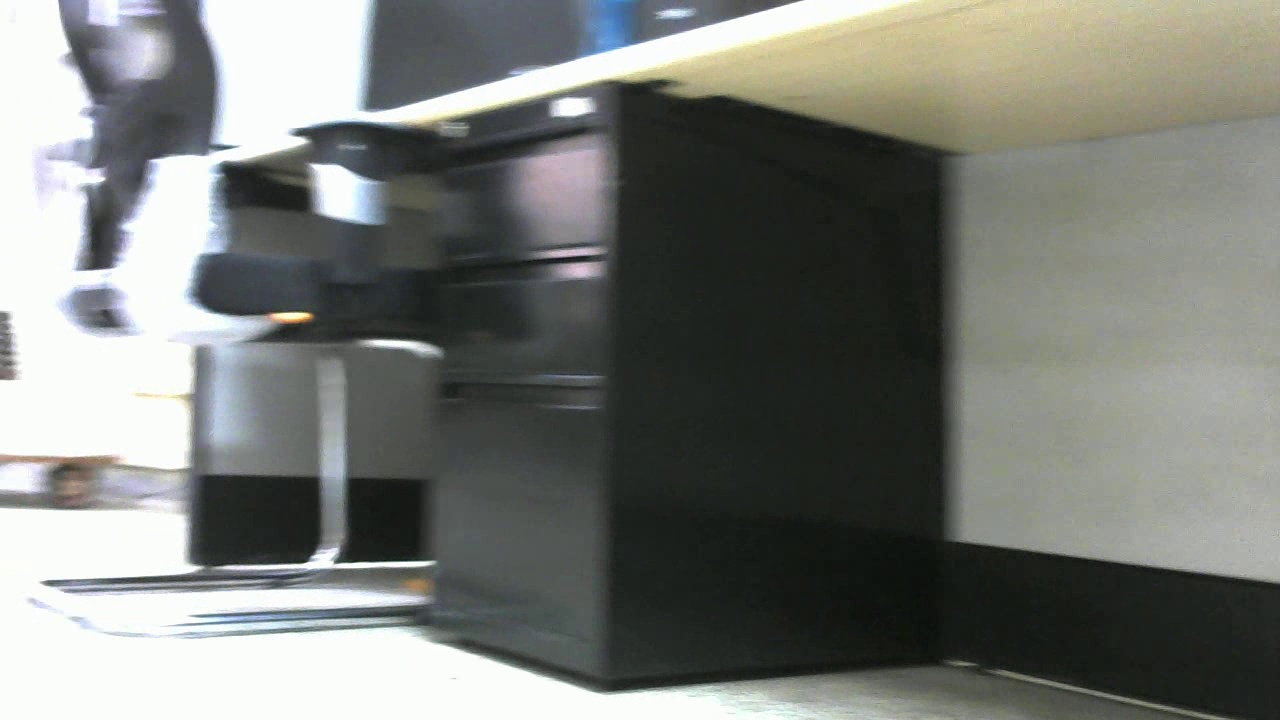chair: (1, 1, 444, 643)
